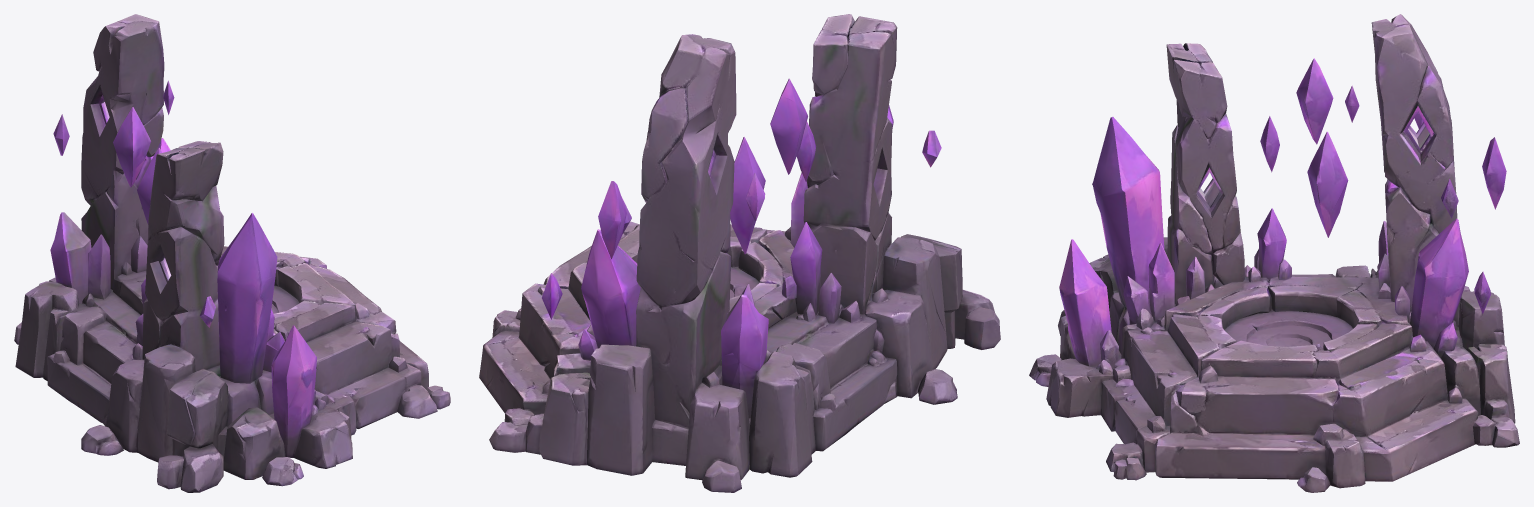
The model's file is ascension_portal.glb.
The picture shows the model from 3 angles, left to right: view 1: azimuth 30°, elevation 25°; view 2: azimuth 150°, elevation 25°; view 3: azimuth 270°, elevation 25°; orthographic projection. The views are drawn at different scales.
Visible parts, largest first — view 1: body, shard_01, shard_00; view 2: body, shard_01, shard_00, shard_02, shard_03; view 3: body, shard_00, shard_01, shard_02, shard_03.
Part boxes in pixels (box(x1,y1,x2,y2)): body: box(14, 14, 450, 492); shard_01: box(113, 107, 150, 187); shard_00: box(137, 148, 162, 224); body: box(479, 14, 1000, 492); shard_01: box(770, 78, 807, 174); shard_00: box(730, 137, 765, 254); shard_02: box(598, 181, 626, 259); shard_03: box(796, 121, 816, 181); body: box(1029, 14, 1519, 492); shard_00: box(1307, 131, 1348, 237); shard_01: box(1296, 58, 1333, 144); shard_02: box(1482, 137, 1506, 209); shard_03: box(1260, 116, 1279, 172).
Bounding box in the file's own units: 3.68 × 3.4 × 4.21.
1 material, 1 textured.
